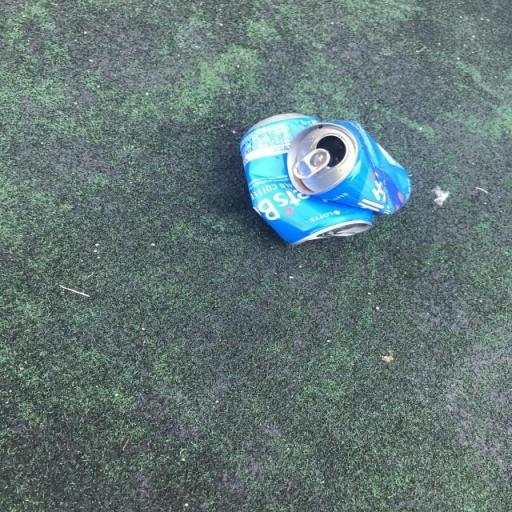metal: (223, 92, 431, 258)
